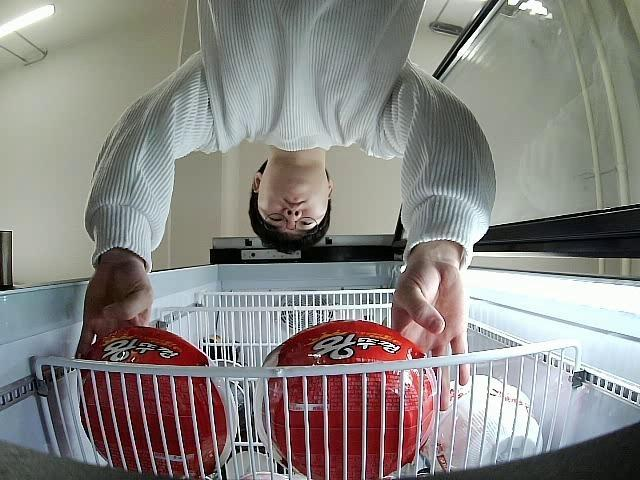10_wangTtukkeong: (256, 321, 436, 480), (78, 322, 238, 478)
